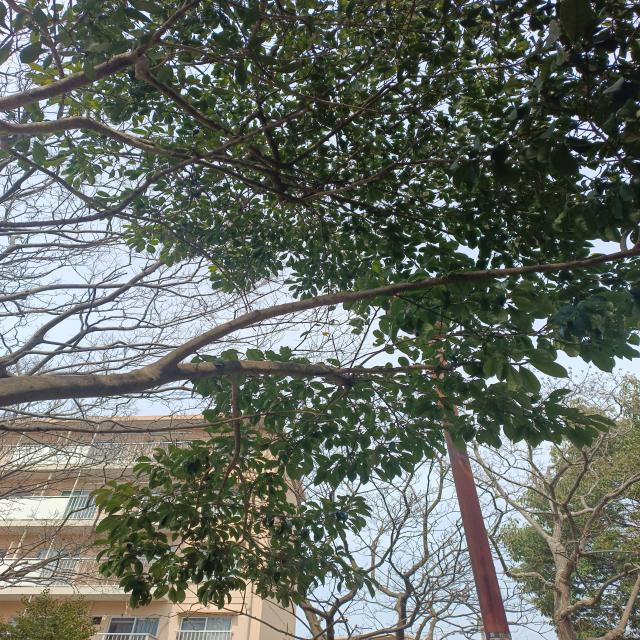Branch: (2, 360, 181, 409)
Twig: (167, 250, 640, 362), (193, 360, 473, 373)
